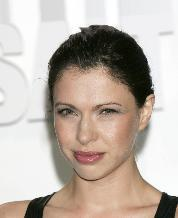face: (54, 102, 121, 163)
